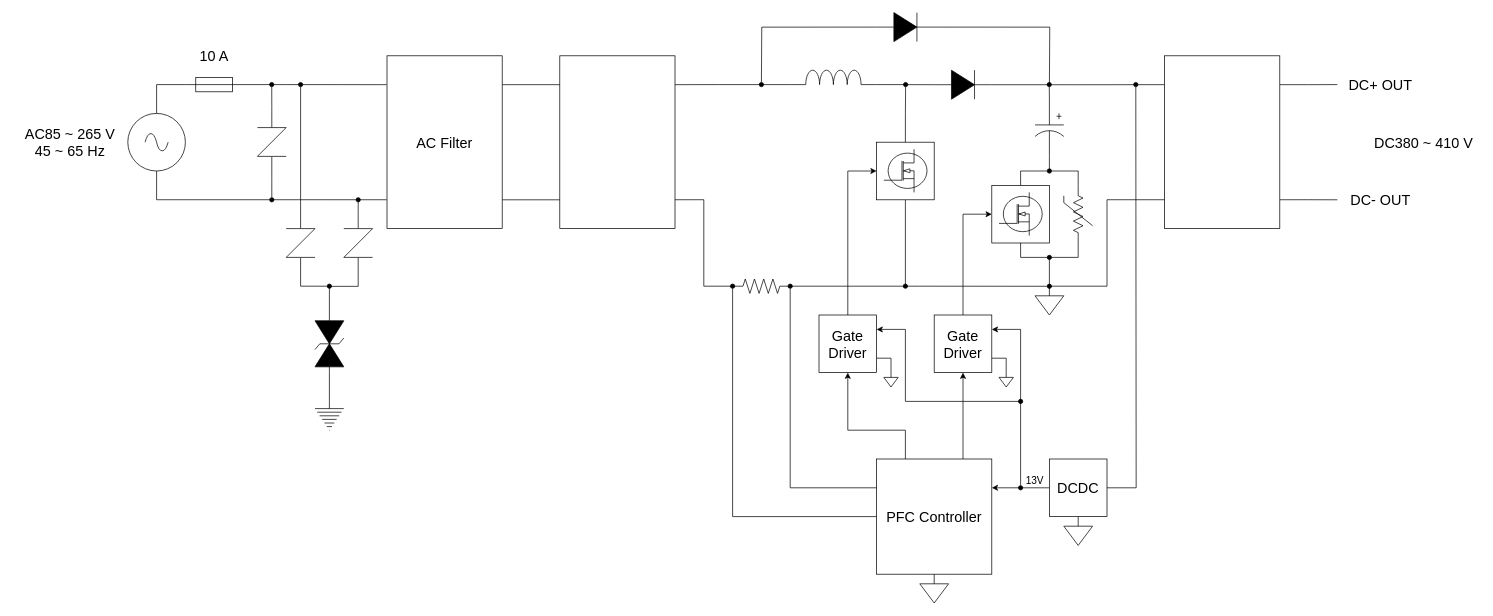
Image size: 1493x616. Some labels were removed from this diagram. Here are the shapes that lost their labels. From the top down, the centre of each, then its label:
the point at 617,142: Active Bridge
the point at 1222,142: DC Filter
